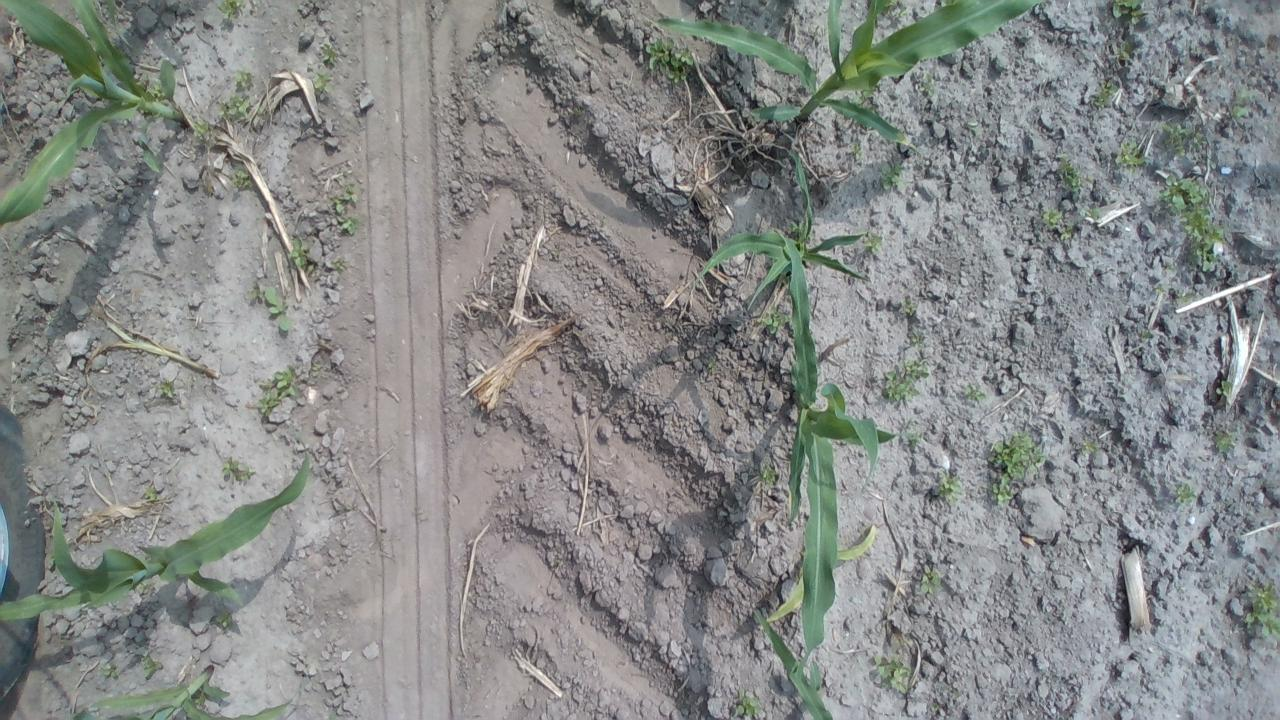Maize: (647, 0, 1043, 159), (0, 434, 319, 624), (770, 227, 892, 669), (0, 0, 191, 229), (685, 146, 871, 315), (70, 663, 308, 720), (766, 524, 878, 622), (748, 602, 836, 720)
Weeds: (1160, 168, 1230, 273), (988, 430, 1048, 506), (644, 36, 694, 86), (255, 366, 300, 418), (1241, 580, 1280, 640), (881, 358, 930, 402), (1154, 121, 1212, 158), (872, 652, 916, 697), (332, 181, 360, 237), (1114, 134, 1146, 176), (1056, 156, 1093, 192), (266, 286, 292, 332), (1040, 206, 1074, 241), (932, 471, 964, 506), (220, 455, 258, 482), (760, 303, 790, 336), (216, 94, 252, 120), (880, 160, 908, 193), (734, 687, 764, 717), (1110, 0, 1146, 25), (74, 508, 99, 543), (308, 69, 338, 98), (1093, 78, 1120, 108), (1232, 86, 1255, 120), (288, 233, 310, 268), (920, 562, 944, 594), (142, 648, 164, 681), (215, 0, 248, 22), (902, 414, 924, 446), (1170, 481, 1198, 506), (1212, 430, 1238, 455), (230, 168, 256, 192), (914, 70, 936, 95), (848, 86, 876, 105), (230, 69, 253, 92), (862, 231, 882, 257), (190, 118, 210, 143), (881, 0, 908, 18), (1172, 287, 1196, 307), (146, 80, 166, 104), (760, 461, 778, 487), (962, 384, 988, 402), (1116, 39, 1136, 61), (321, 41, 338, 65), (100, 661, 120, 680), (158, 377, 176, 398), (896, 299, 918, 316), (743, 111, 766, 127), (1078, 206, 1104, 220), (1216, 379, 1234, 397), (1081, 440, 1099, 457), (966, 118, 982, 137), (217, 611, 234, 628), (334, 255, 351, 272), (786, 220, 800, 240), (143, 483, 160, 499), (850, 142, 865, 160), (911, 334, 926, 352), (1154, 282, 1169, 298), (1136, 330, 1156, 342), (140, 109, 160, 121), (311, 360, 323, 378), (248, 286, 262, 298), (302, 262, 316, 274), (706, 359, 717, 374), (138, 580, 150, 593), (929, 702, 941, 714), (574, 106, 583, 118), (559, 94, 568, 104), (136, 79, 145, 89)
